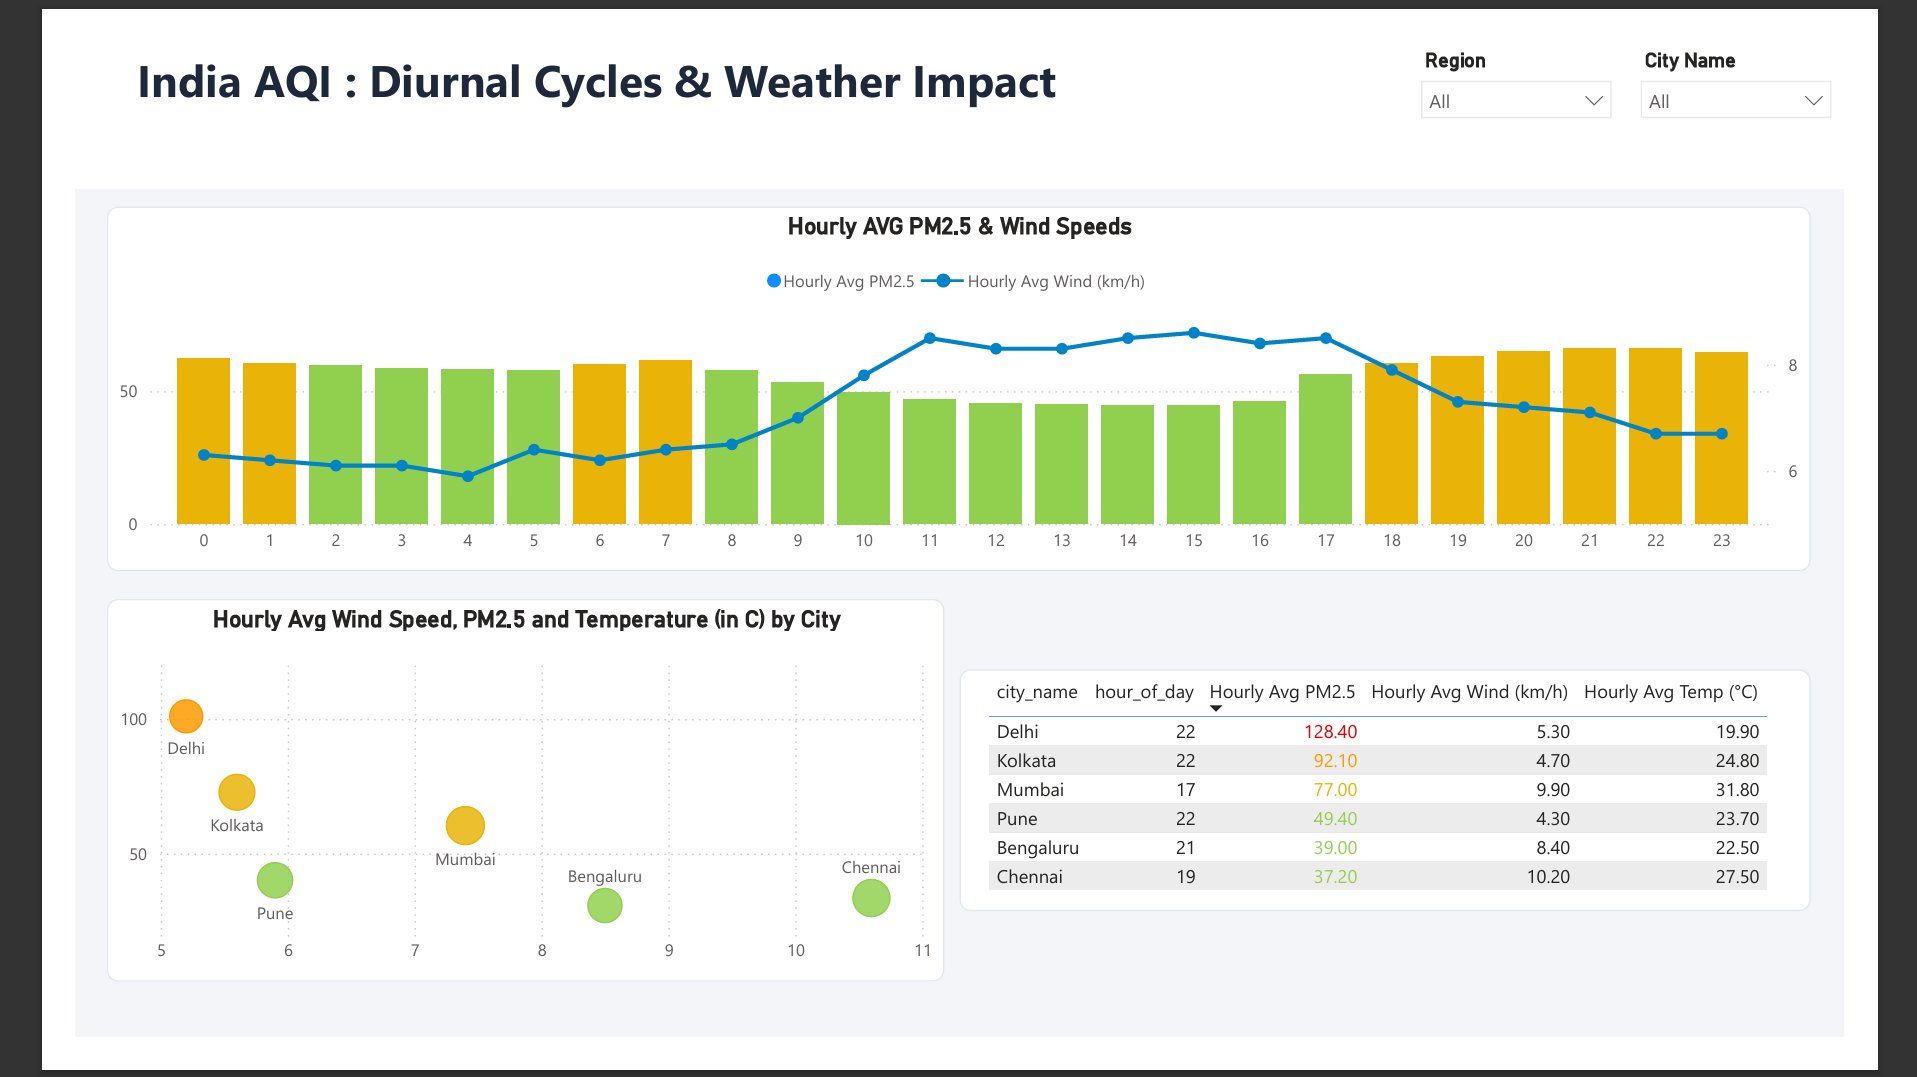

The dashboard page shown, as its layout file describes it:
{"tool":"powerbi","page":{"name":"Diurnal Cycles & Weather Impact","canvas":[1280,720],"ordinal":2},"visuals":[{"type":"textbox","box":[0,0,1280,105.7],"z":0},{"type":"slicer","fields":{"Values":["dim_city.region"]},"box":[963.8,0,158.6,105.7],"z":1000},{"type":"slicer","fields":{"Values":["dim_city.city_name"]},"box":[1122.5,0,158.6,105.7],"z":2000},{"type":"lineClusteredColumnComboChart","title":"Hourly AVG PM2.5 & Wind Speeds ","fields":{"Category":["vw_city_hourly_profile.hour_of_day"],"Y2":["_Measures.Hourly Avg Wind (km/h)"],"Y":["_Measures.Hourly Avg PM2.5"]},"box":[22.5,118.8,1233.8,263.8],"z":3000},{"type":"scatterChart","title":"Hourly Avg Wind Speed, PM2.5 and Temperature (in C) by City","fields":{"Category":["dim_city.city_name"],"X":["_Measures.Hourly Avg Wind (km/h)"],"Y":["_Measures.Hourly Avg PM2.5"],"Size":["_Measures.Hourly Avg Temp (°C)"]},"box":[22.5,402.5,606.2,277.5],"z":4000},{"type":"tableEx","fields":{"Values":["dim_city.city_name","vw_city_hourly_profile.hour_of_day","_Measures.Hourly Avg PM2.5","_Measures.Hourly Avg Wind (km/h)","_Measures.Hourly Avg Temp (°C)"]},"box":[640,453.8,616.2,175],"z":5000}]}

Visuals, with their boxes in screenshot pixels (x1, y1, x2, y2), scaled from the page's 1280x720 canvas onto the 1917x1077 screenshot:
textbox: (x1=0, y1=0, x2=1916, y2=158)
slicer - dim_city.region: (x1=1443, y1=0, x2=1681, y2=158)
slicer - dim_city.city_name: (x1=1681, y1=0, x2=1916, y2=158)
"Hourly AVG PM2.5 & Wind Speeds " lineClusteredColumnComboChart: (x1=34, y1=178, x2=1882, y2=572)
"Hourly Avg Wind Speed, PM2.5 and Temperature (in C) by City" scatterChart: (x1=34, y1=602, x2=942, y2=1017)
tableEx - dim_city.city_name x vw_city_hourly_profile.hour_of_day: (x1=958, y1=679, x2=1881, y2=941)
